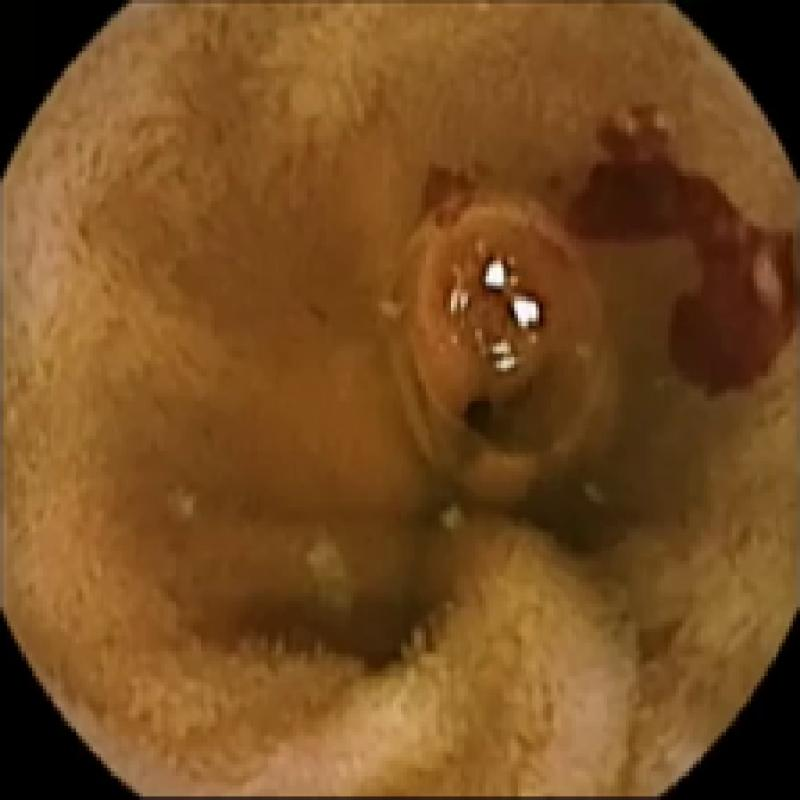bleeding: (557, 97, 800, 390), (415, 151, 483, 234)
